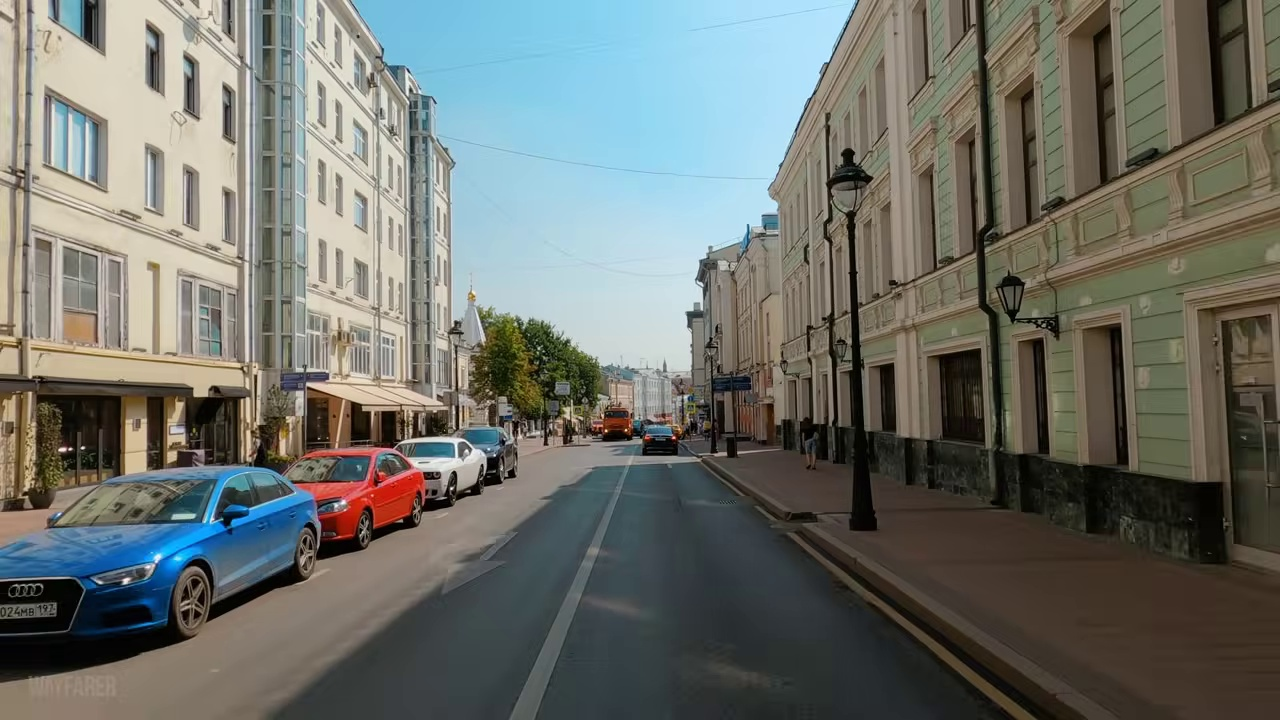apagada: (823, 169, 865, 216)
